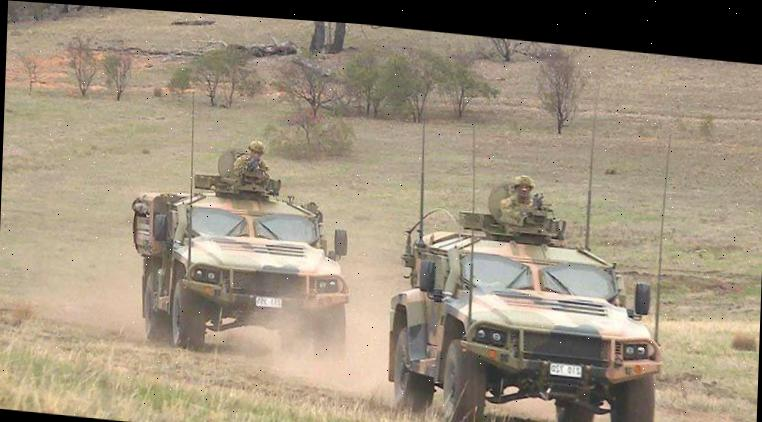armored_car: (385, 169, 668, 422), (126, 136, 354, 367)
